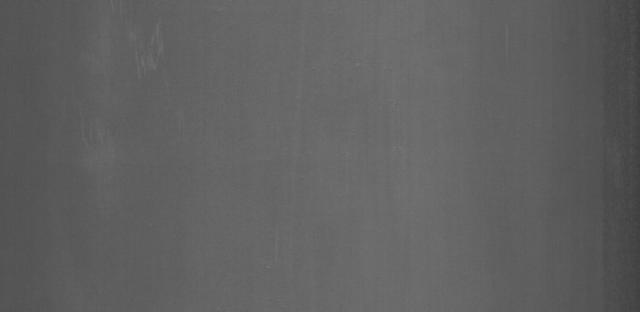silk_spot: (92, 20, 179, 96)
